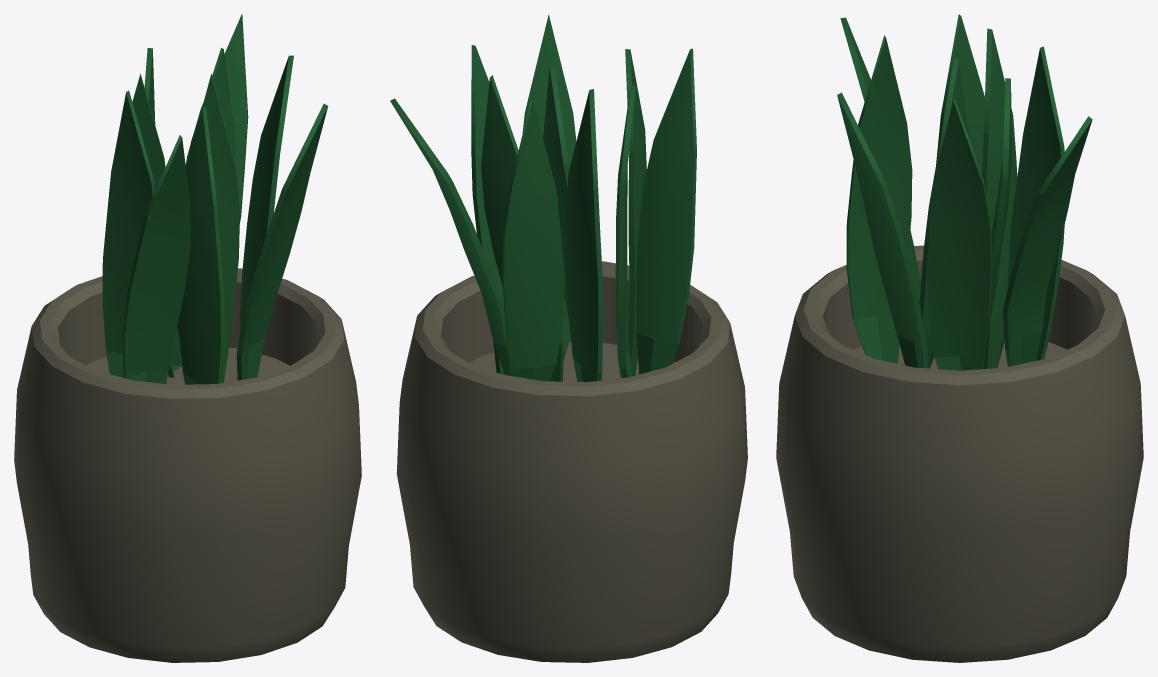
The model's file is plant 1.fbx.
3 renders of one model, left to right at view 1: azimuth 30°, elevation 25°; view 2: azimuth 150°, elevation 25°; view 3: azimuth 270°, elevation 25°, orthographic. The views are drawn at different scales.
Visible parts, largest first — view 1: pCylinder47; view 2: pCylinder47; view 3: pCylinder47.
Boxes of the visible parts, <box> form: pCylinder47: <box>14,14,361,662</box>; pCylinder47: <box>390,14,747,662</box>; pCylinder47: <box>776,14,1143,662</box>.
Size of the model in its own units: 20.36 by 34.22 by 20.36.
